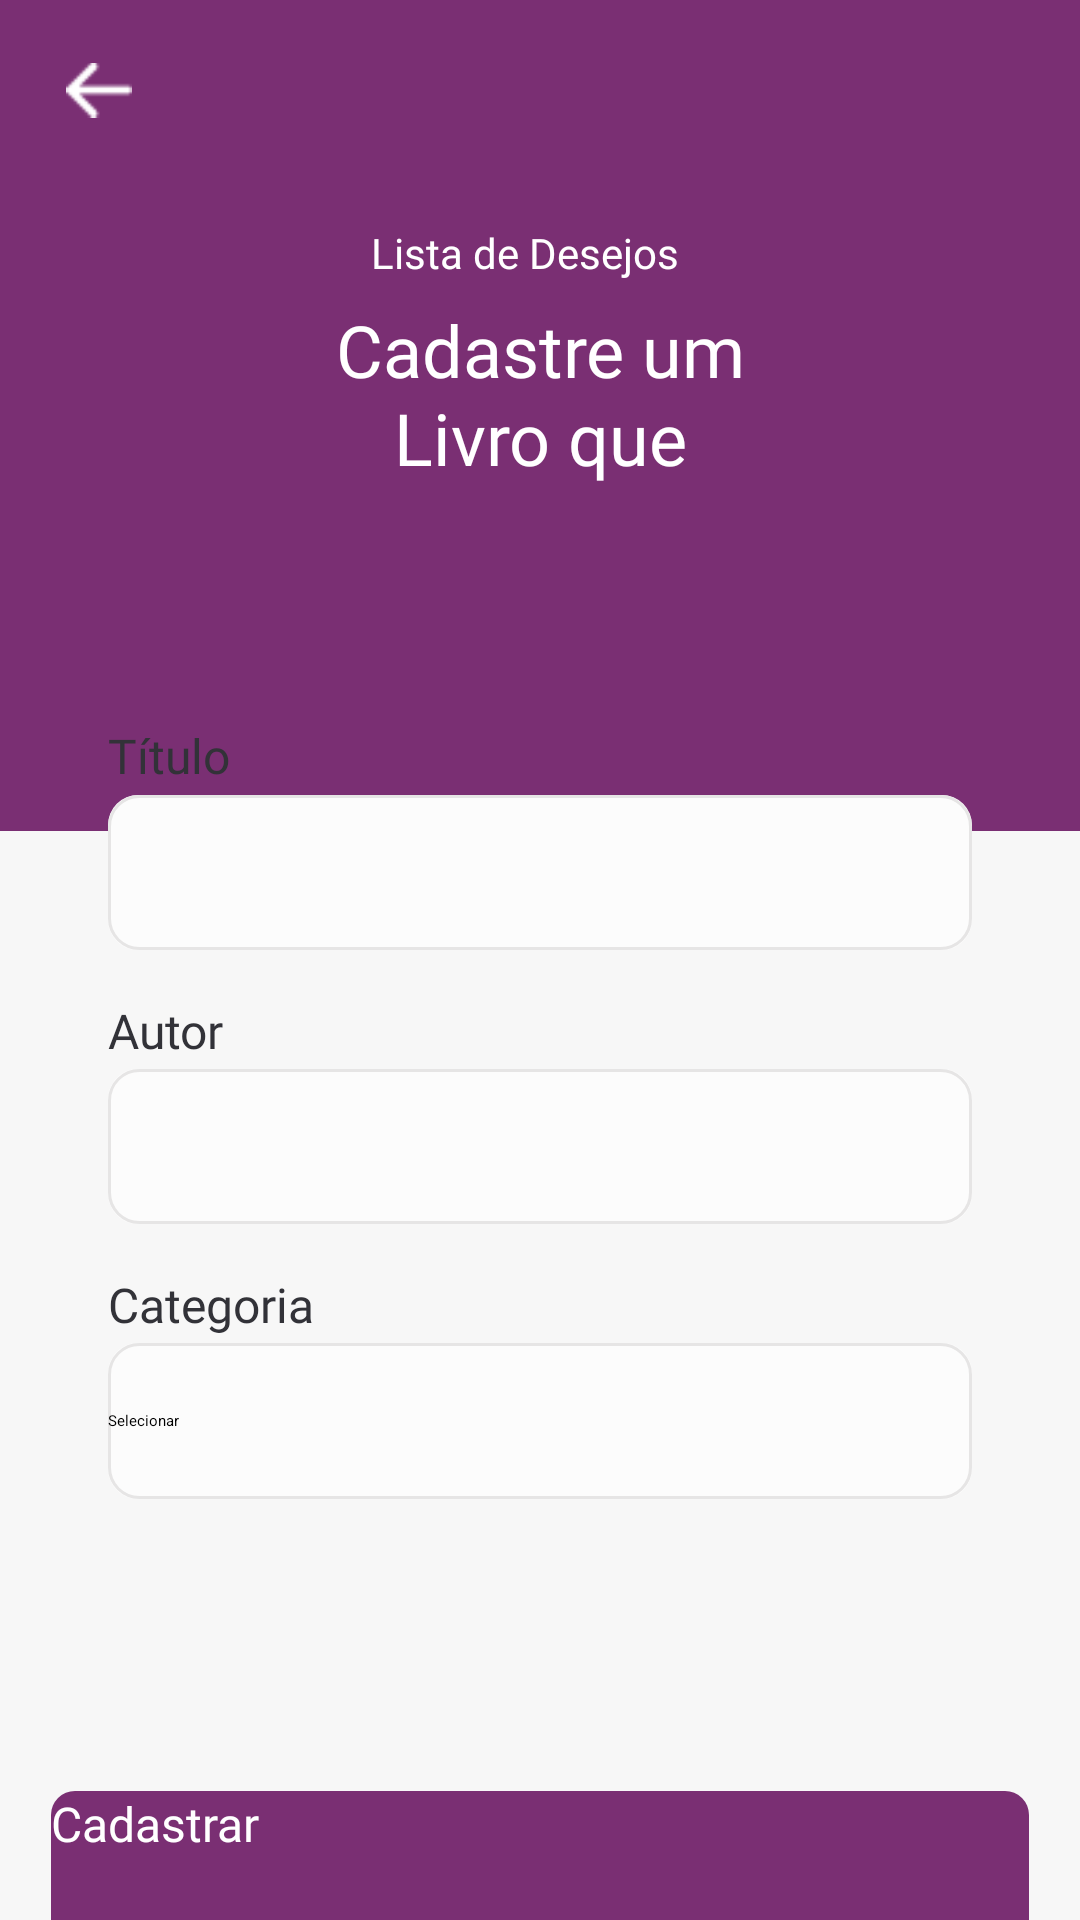

Named icons in this screenshot (1080*1920) and their bounding boxes, (x1, y1, x2, y2):
vector back Arrow: (66, 63, 132, 118)
